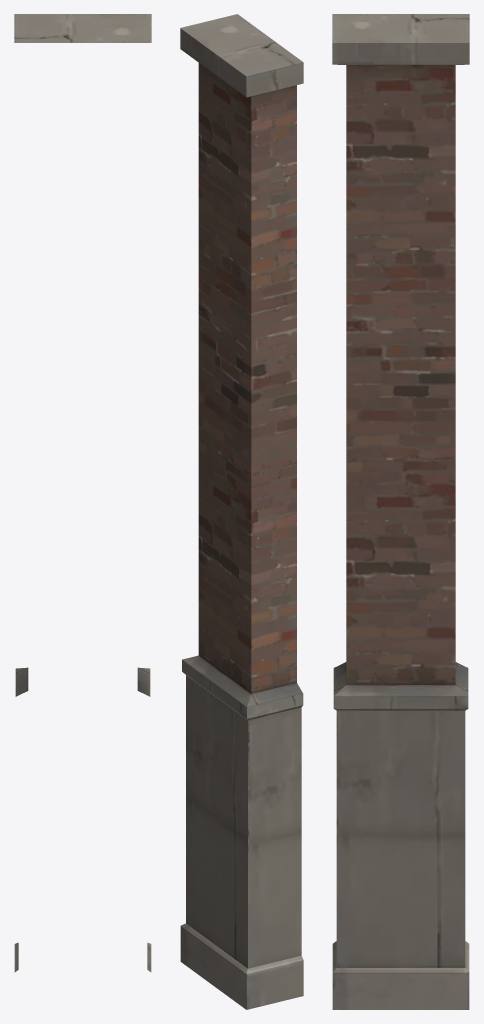
3 views of the same model, side by side, from view 1: azimuth 90°, elevation 25°; view 2: azimuth 210°, elevation 25°; view 3: azimuth 270°, elevation 25° (orthographic). The views are drawn at different scales.
Parts seen in each view (by area): view 1: body0_model0_lod0_mesh0; view 2: body0_model0_lod0_mesh0; view 3: body0_model0_lod0_mesh0.
Boxes of the visible parts, bbox=[...] form: body0_model0_lod0_mesh0: bbox=[14, 14, 151, 972]; body0_model0_lod0_mesh0: bbox=[180, 14, 303, 1009]; body0_model0_lod0_mesh0: bbox=[332, 14, 469, 1009].
Bounding box in the file's own units: 20.07 × 312 × 40.14.
1 material, 1 textured.
